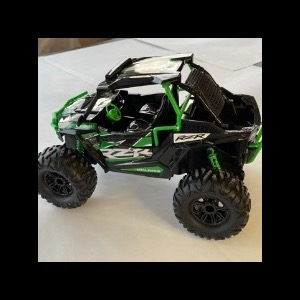polaris: (40, 54, 261, 242)
